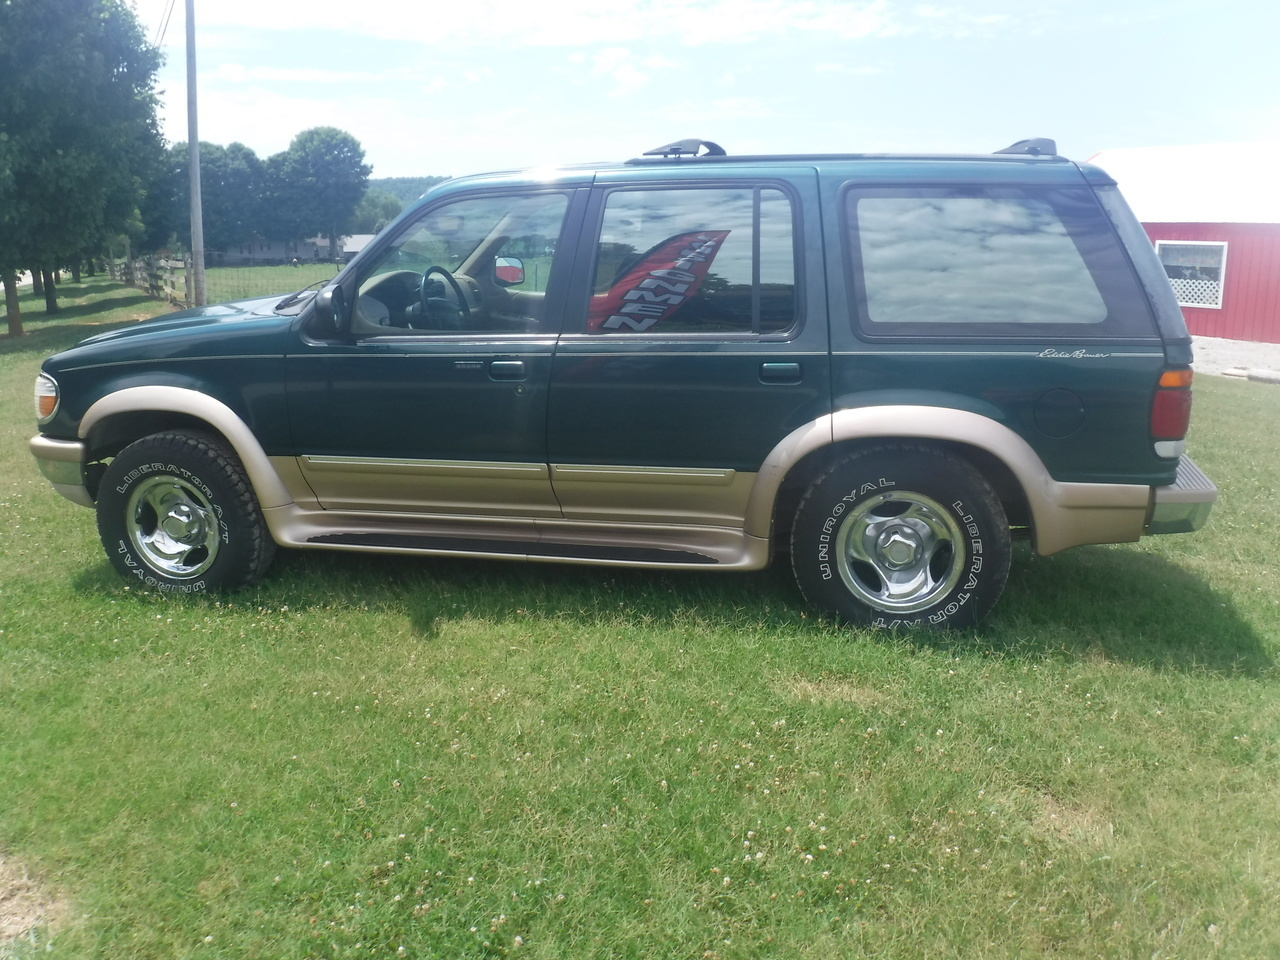Ford Explorer: (24, 128, 1220, 640)
